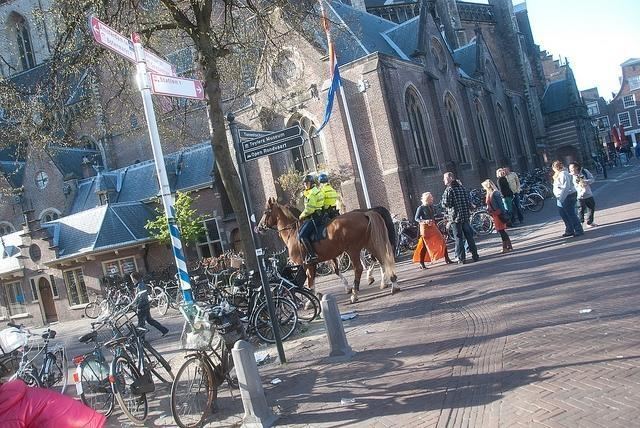bicycle: (165, 294, 248, 423), (102, 290, 176, 426), (69, 306, 121, 416), (0, 322, 70, 368), (240, 284, 296, 341), (191, 264, 249, 314), (276, 272, 316, 323), (444, 204, 496, 242), (392, 220, 420, 256), (158, 280, 184, 315), (98, 288, 130, 316), (520, 188, 544, 212), (519, 180, 548, 198)
